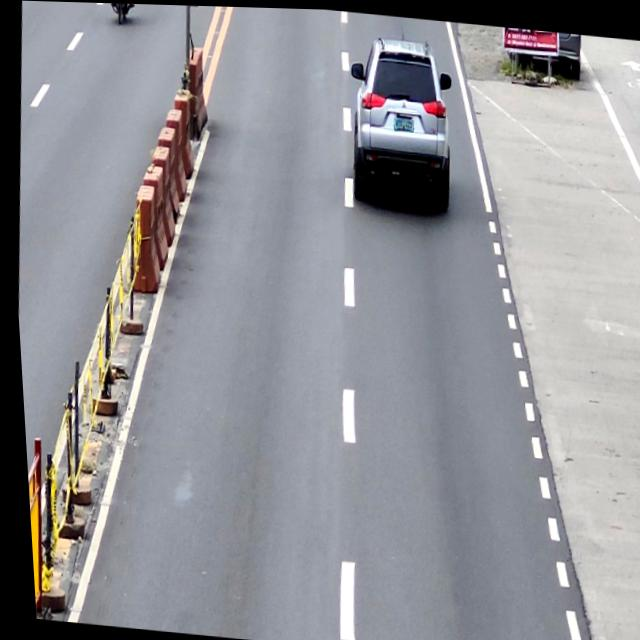Car: (338, 31, 459, 209)
License-Plate: (389, 113, 414, 130)
